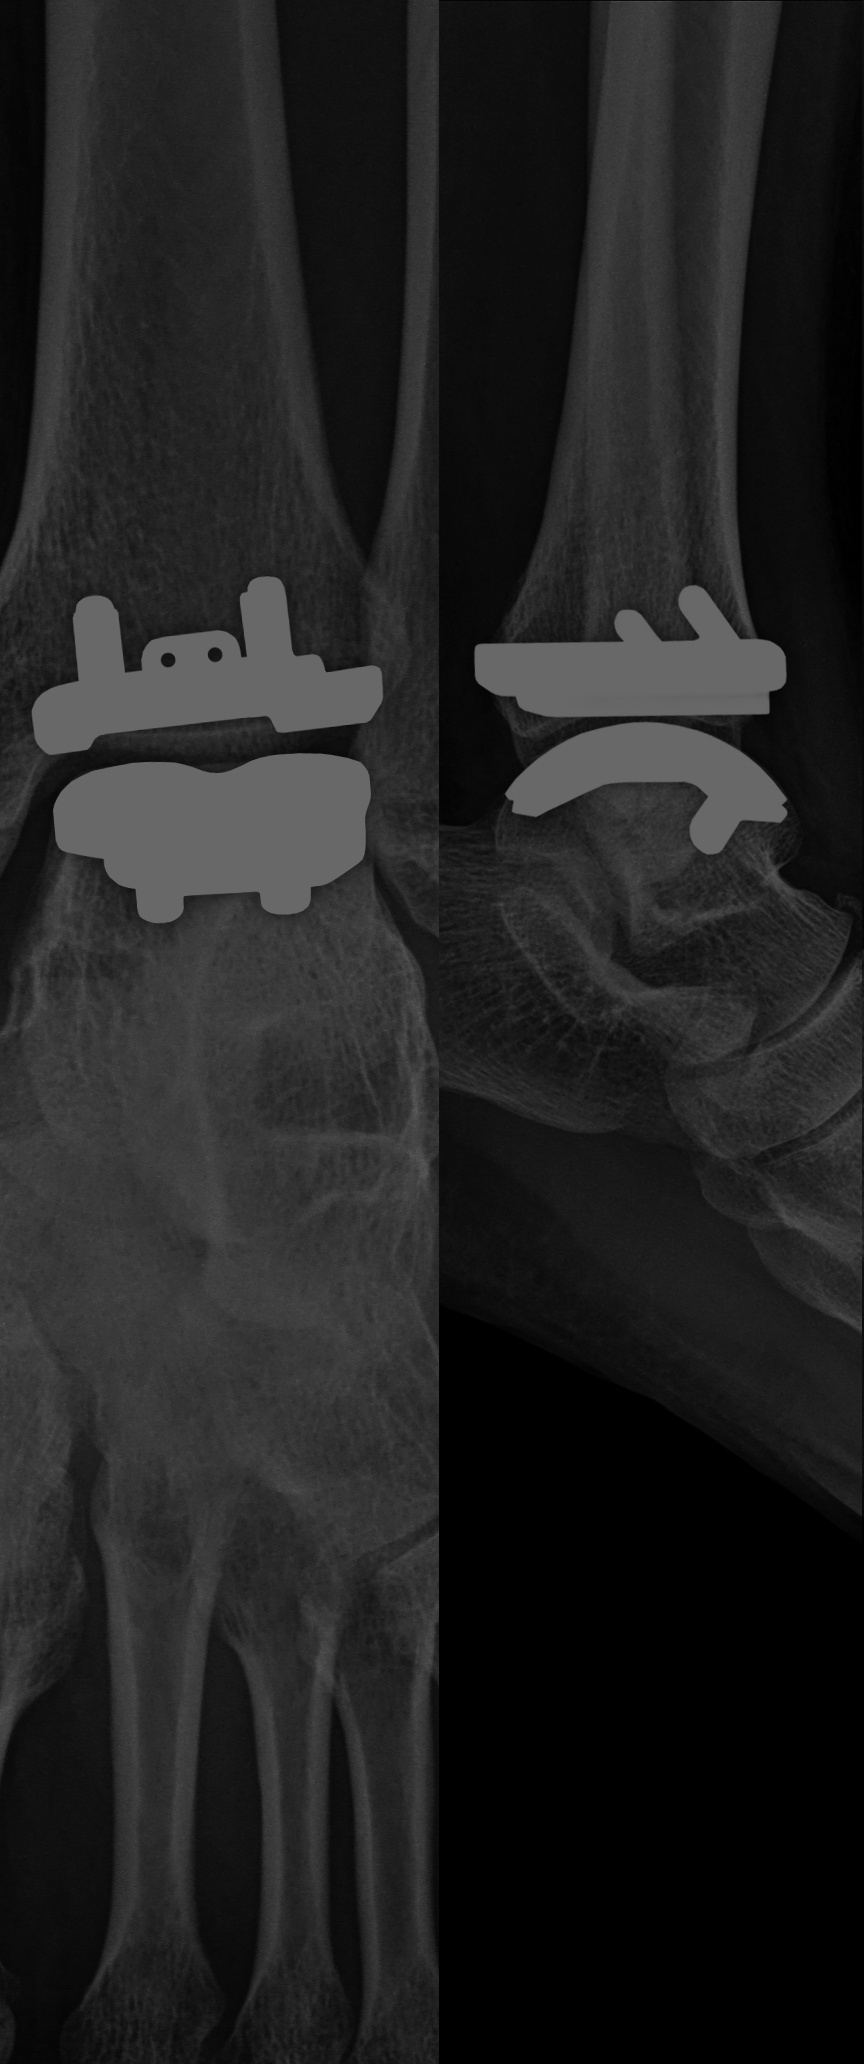Cadence-Integra: (12, 561, 404, 942), (457, 563, 815, 858)
